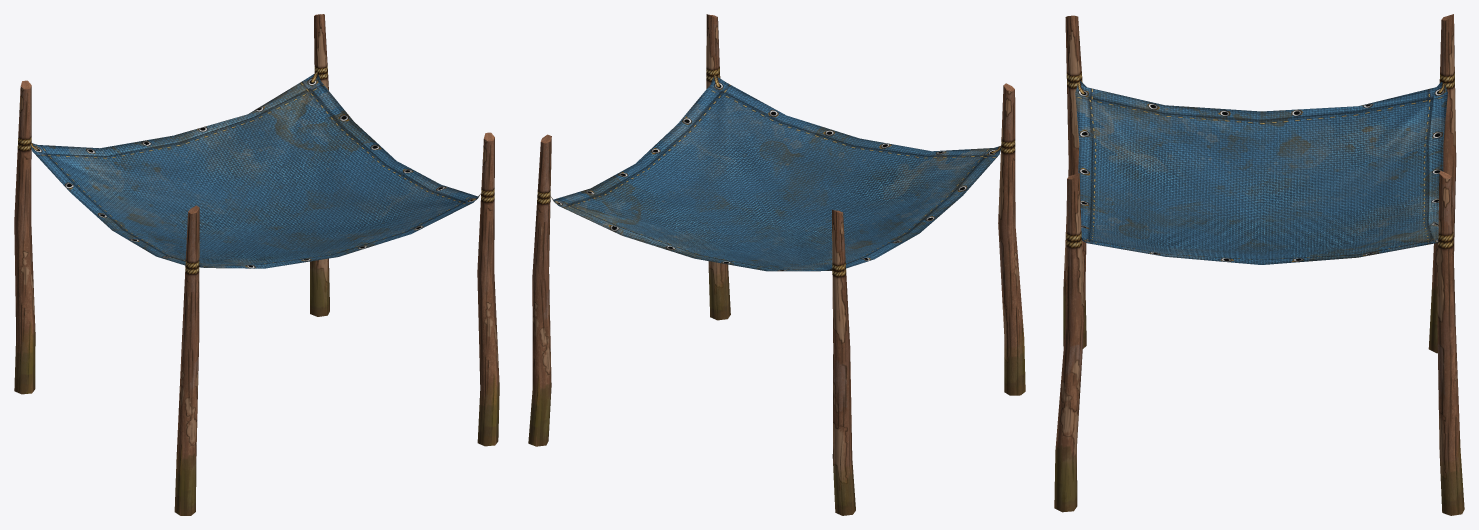
The model's file is shade02.FBX.
The picture shows the model from 3 angles, left to right: view 1: azimuth 30°, elevation 25°; view 2: azimuth 150°, elevation 25°; view 3: azimuth 270°, elevation 25°; orthographic projection. The views are drawn at different scales.
Visible parts, largest first — view 1: shade02_cloth, shade02_frame; view 2: shade02_cloth, shade02_frame; view 3: shade02_cloth, shade02_frame.
Part boxes in pixels (x1,y1,x2,y2): shade02_cloth: [30, 72, 480, 268]; shade02_frame: [14, 14, 499, 515]; shade02_cloth: [551, 75, 1001, 271]; shade02_frame: [528, 14, 1025, 515]; shade02_cloth: [1075, 80, 1447, 264]; shade02_frame: [1054, 14, 1464, 515].
Bounding box in the file's own units: 441 × 397 × 438.
